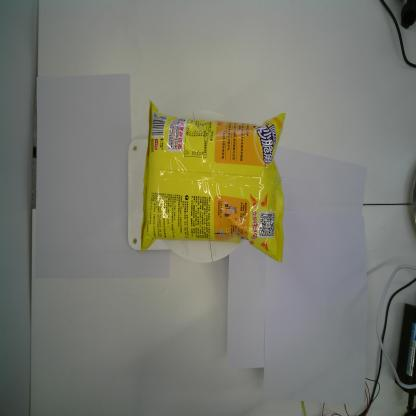Puffed Food: (138, 97, 289, 264)
